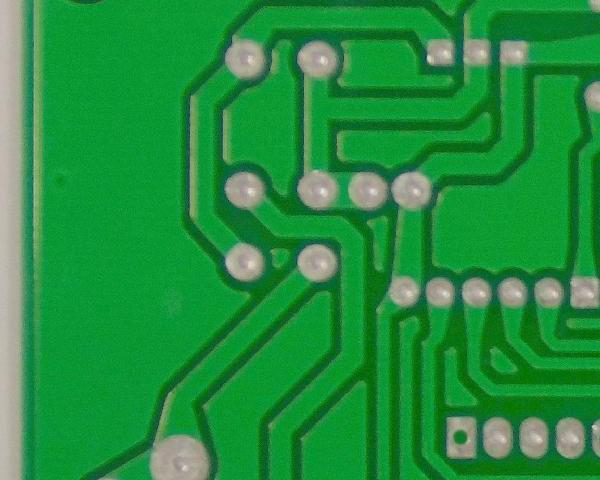missing hole: (442, 412, 482, 462)
